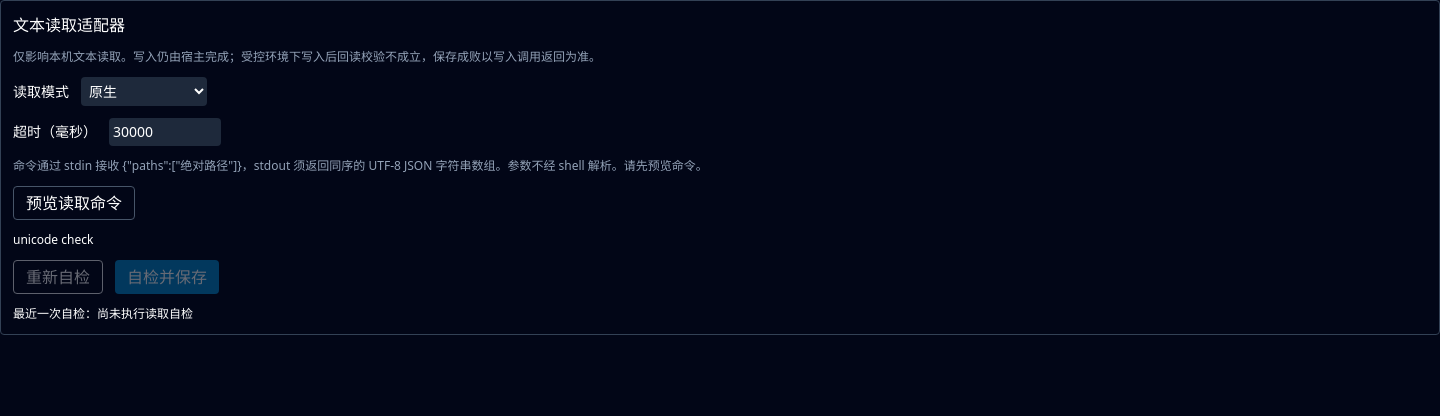
cancels the specific pending check
What coordinates should you click on to do the following:
click the button "预览读取命令"
I would click on:
 (74, 203)
Its box is [13,186,135,220].
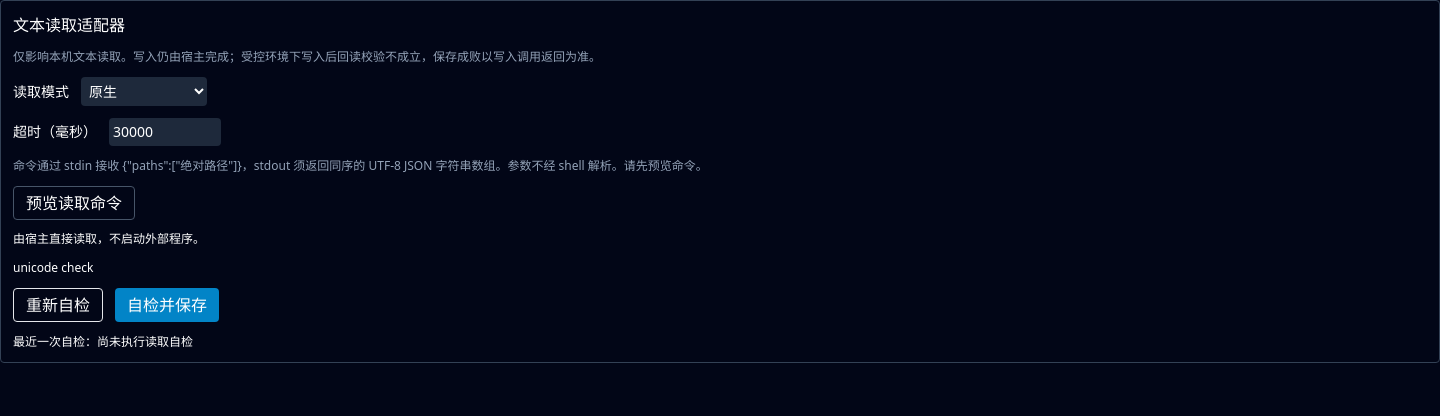
What coordinates should you click on to do the following:
click the button "重新自检"
I would click on:
 (58, 305)
Its box is [13,288,103,322].
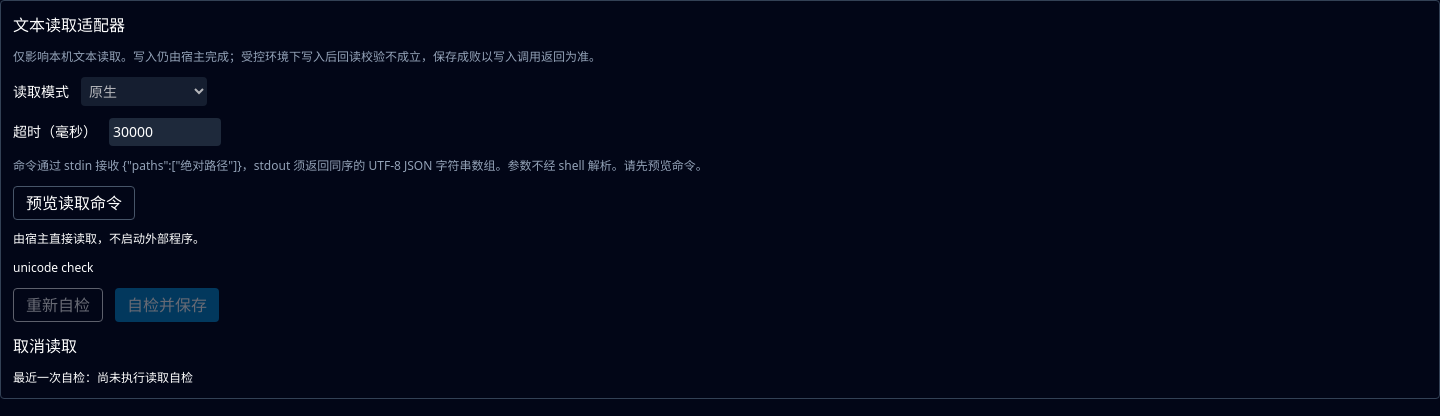
What coordinates should you click on to do the following:
click the button "取消读取"
I would click on:
 (45, 346)
Its box is [13,334,77,358].
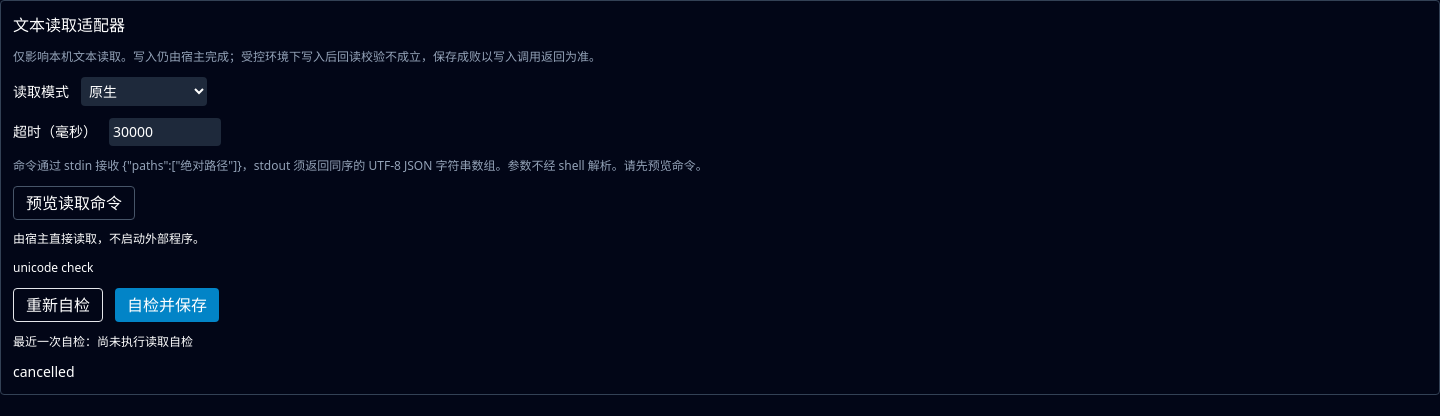
Expected: the text "cancelled" is shown, [13,362,75,381]
